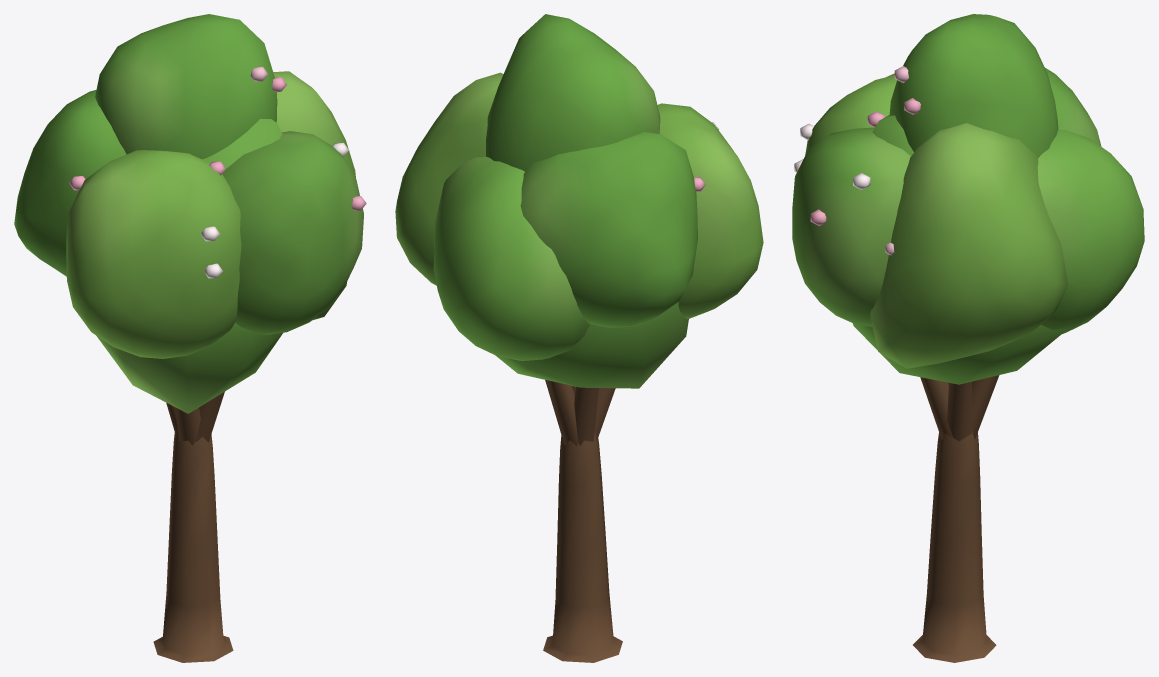
File: decor_feuillu_printemps_1.glb
3 renders of one model, left to right at view 1: azimuth 30°, elevation 25°; view 2: azimuth 150°, elevation 25°; view 3: azimuth 270°, elevation 25°, orthographic.
Visible parts, largest first — view 1: feuillage, tronc, fleurs; view 2: feuillage, tronc; view 3: feuillage, tronc, fleurs.
Part boxes in pixels (<box>): feuillage: <box>14,14,363,413</box>; tronc: <box>153,391,233,662</box>; fleurs: <box>69,66,366,278</box>; feuillage: <box>395,14,763,388</box>; tronc: <box>543,380,622,662</box>; feuillage: <box>792,14,1144,384</box>; tronc: <box>913,375,999,662</box>; fleurs: <box>794,66,920,255</box>.
Size of the model in its own units: 0.3835 by 0.74 by 0.375.
